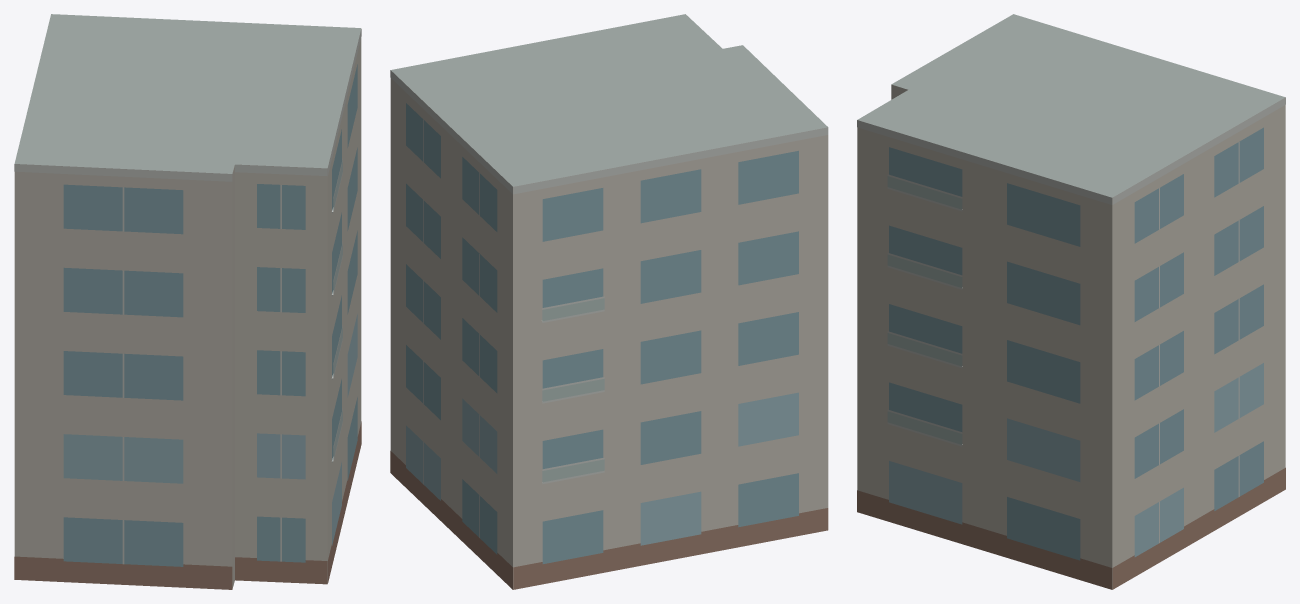
Rendered from survey-upis-32615304.glb.
3 renders of one model, left to right at view 1: azimuth 30°, elevation 25°; view 2: azimuth 150°, elevation 25°; view 3: azimuth 270°, elevation 25°, orthographic. The views are drawn at different scales.
Parts seen in each view (by area): view 1: survey-upis-32615304.tmp; view 2: survey-upis-32615304.tmp; view 3: survey-upis-32615304.tmp.
Part boxes in pixels (bbox=[...]): survey-upis-32615304.tmp: bbox=[14, 14, 361, 589]; survey-upis-32615304.tmp: bbox=[390, 14, 828, 589]; survey-upis-32615304.tmp: bbox=[857, 14, 1285, 589].
Size of the model in its own units: 13.07 by 13 by 12.89.
